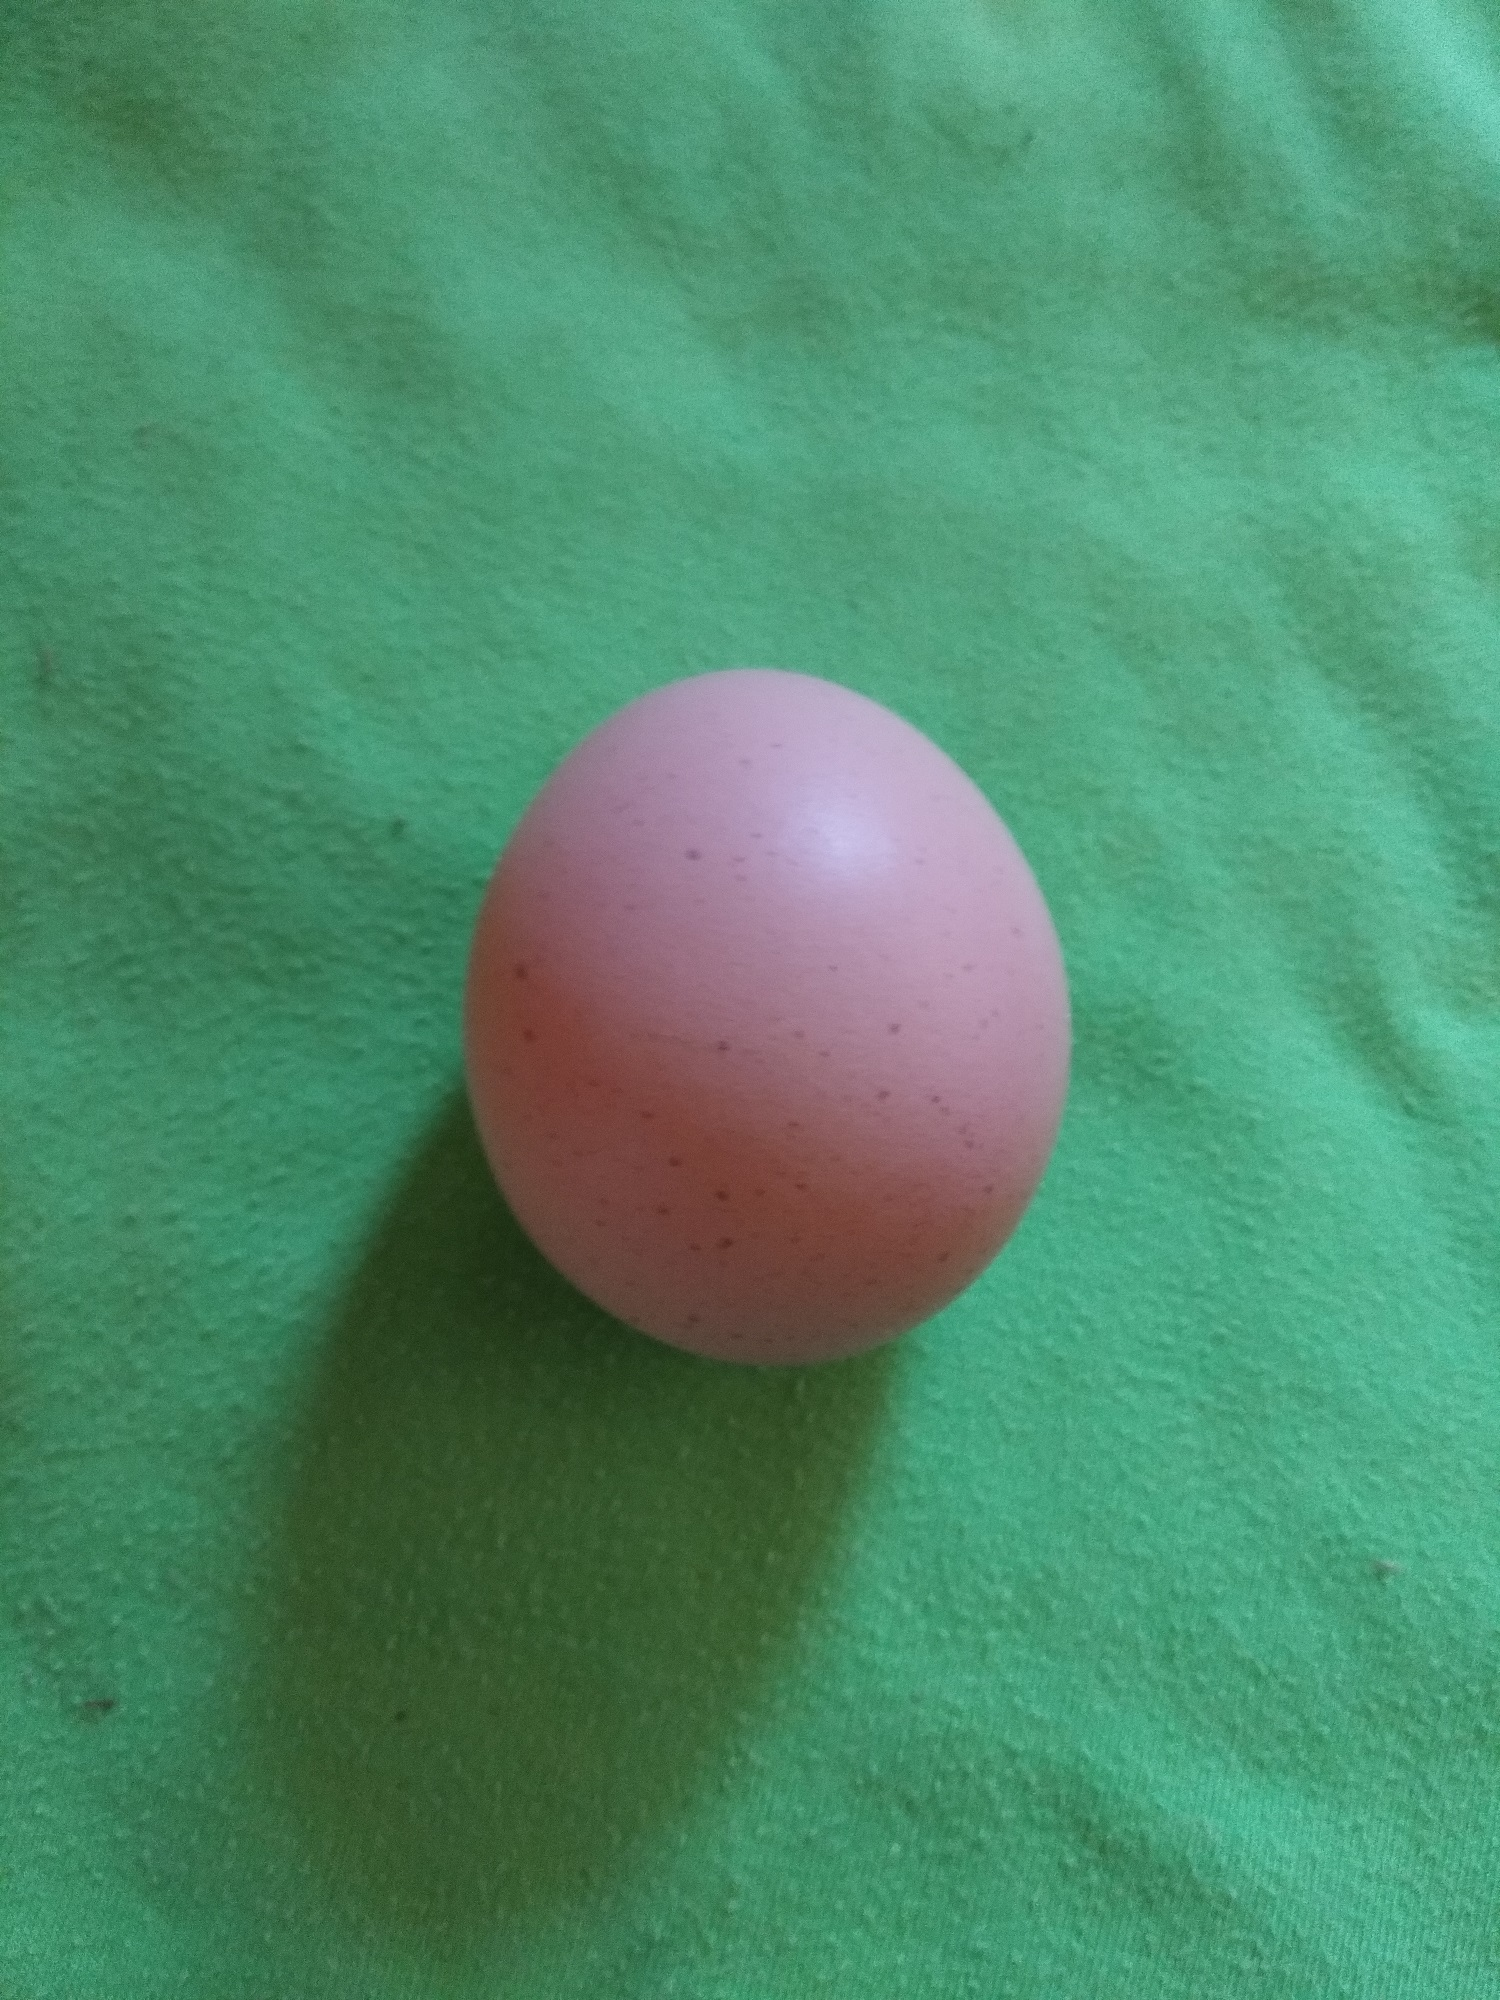Female: (452, 660, 1075, 1381)
